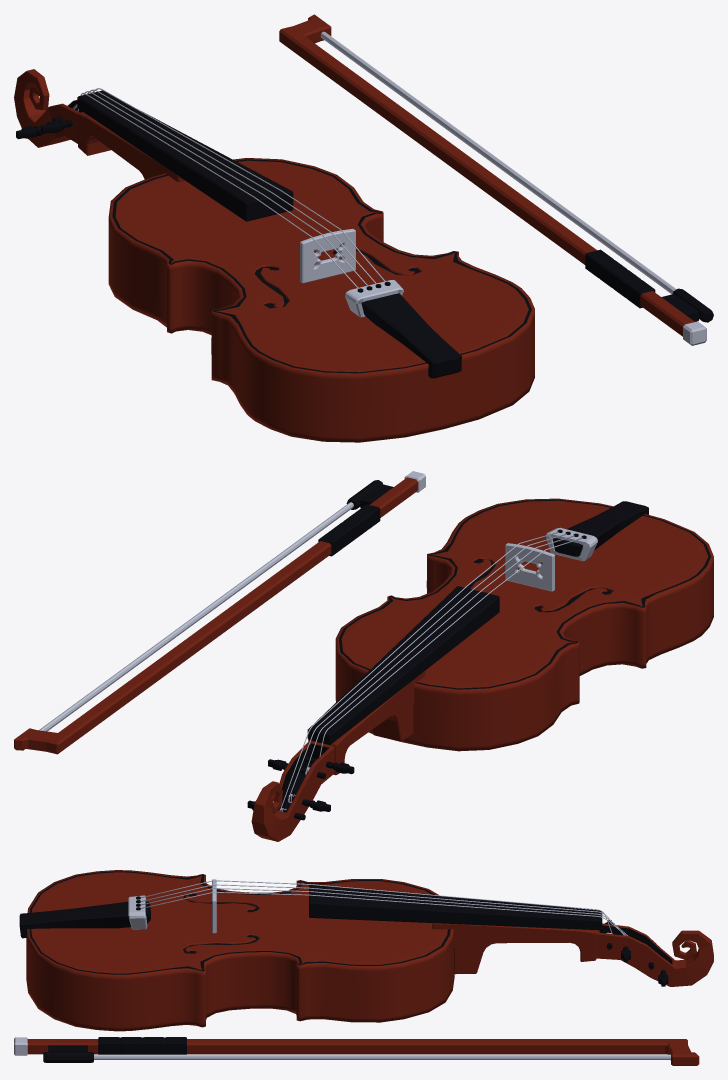
The model's file is violin.fbx.
3 renders of one model, top to bottom at view 1: azimuth 30°, elevation 25°; view 2: azimuth 150°, elevation 25°; view 3: azimuth 270°, elevation 25°, orthographic. The views are drawn at different scales.
Parts seen in each view (by area): view 1: Violin (×3), Violin Bow (×3); view 2: Violin (×3), Violin Bow (×3); view 3: Violin (×3), Violin Bow (×3).
Boxes of the visible parts, <box> form: Violin (×3): <box>14,69,534,442</box>; Violin Bow (×3): <box>279,14,713,345</box>; Violin (×3): <box>247,498,713,841</box>; Violin Bow (×3): <box>14,471,425,754</box>; Violin (×3): <box>19,870,713,1031</box>; Violin Bow (×3): <box>14,1037,699,1065</box>.
Bounding box in the file's own units: 217 × 58.7 × 387.
